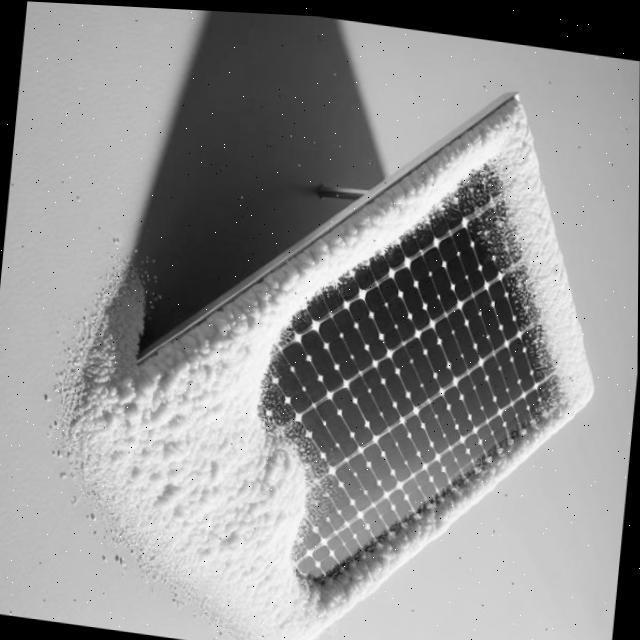Anomaly Solar Panel: (73, 51, 639, 640)
Snow: (77, 57, 639, 640), (174, 189, 592, 582)
